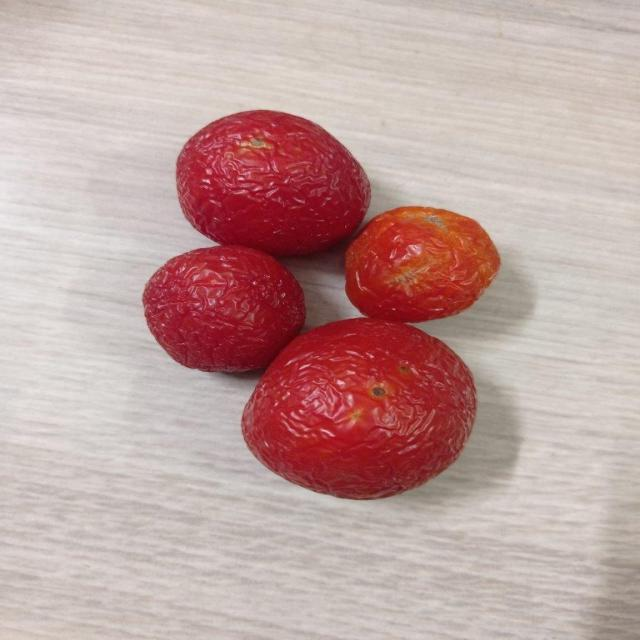overripe: (244, 325, 478, 502), (172, 106, 370, 246), (139, 246, 308, 375), (344, 202, 500, 321)
